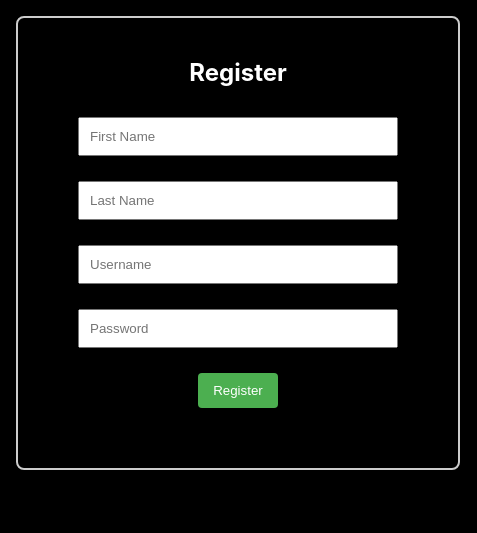
it: Register Component › handles registration error
The width and height of the screenshot is (477, 533).
Type "John" into the field with placeholder "First Name" at (238, 136), box [78,117,398,156]
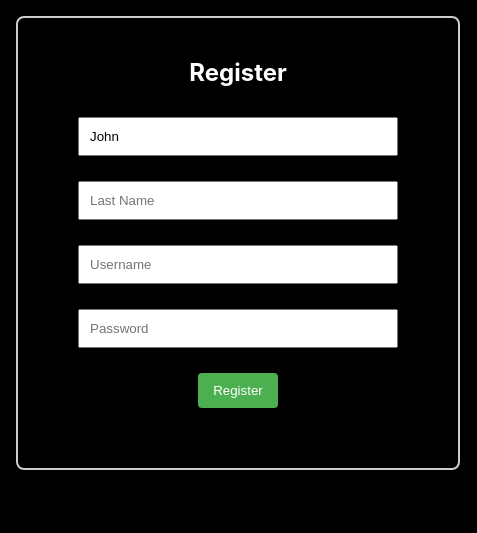
Type "Doe" into the field with placeholder "Last Name" at (238, 200), box [78,181,398,220]
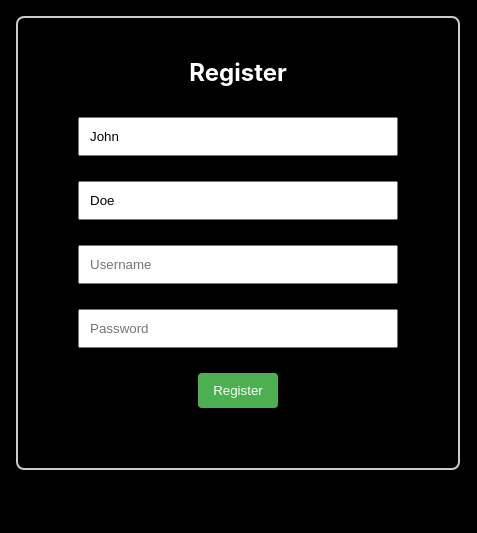
Type "johndoe" into the field with placeholder "Username" at (238, 264), box [78,245,398,284]
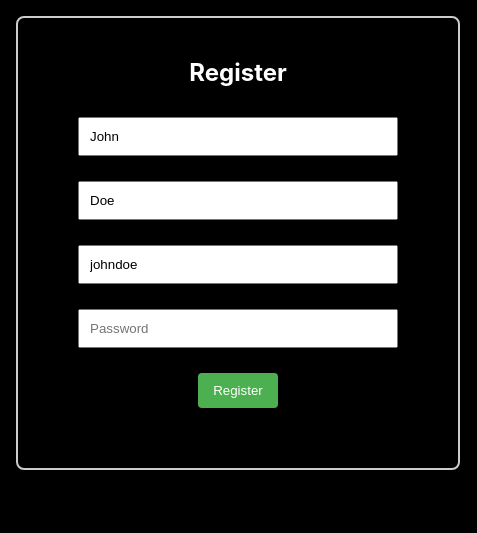
Type "password1" into the password field with placeholder "Password" at (238, 328), box [78,309,398,348]
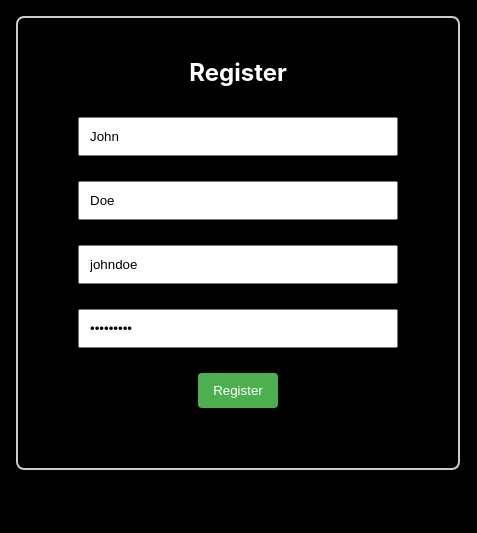
Click the button "Register" at (238, 390), box [198,373,278,408]
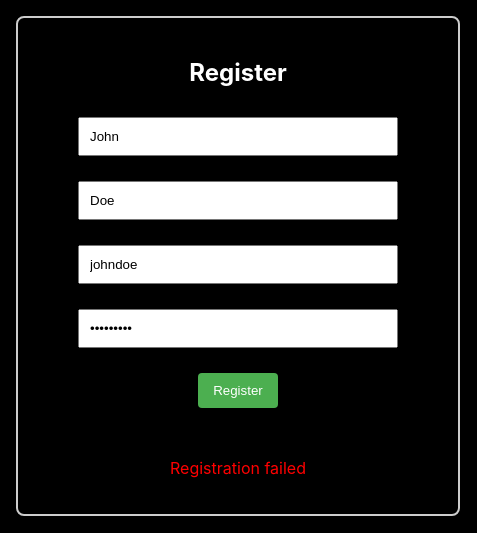
Check: the text "Registration failed" is shown, box [170,458,306,478]
